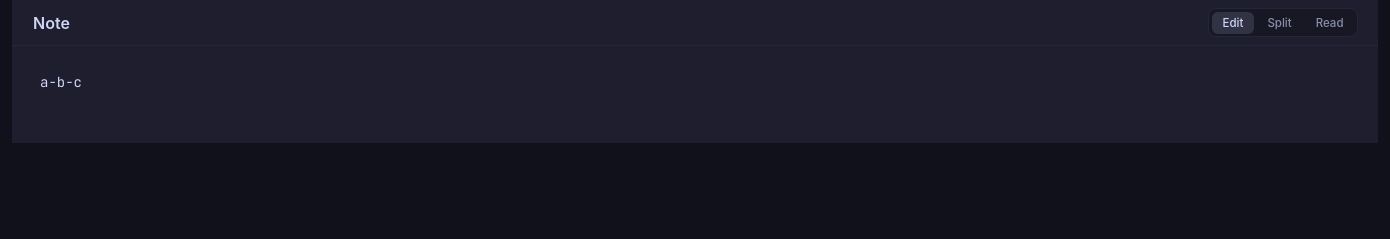
Replace (#547) › deletes the matches when the replacement is empty
Press f
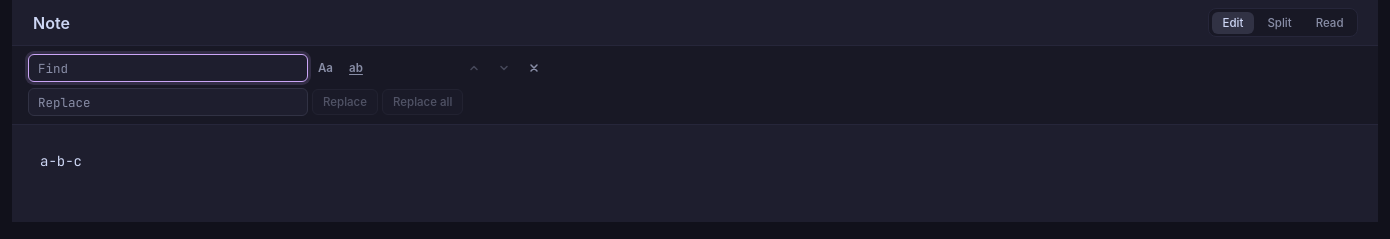
Type "-" into the field labelled "Find". click: (168, 68)
box: [28,54,308,82]
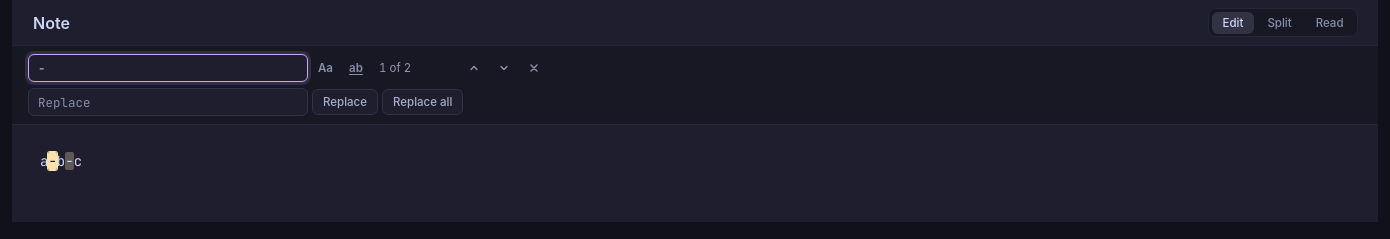
Click the button "Replace all". click: (423, 102)
box: [382,89,463,115]
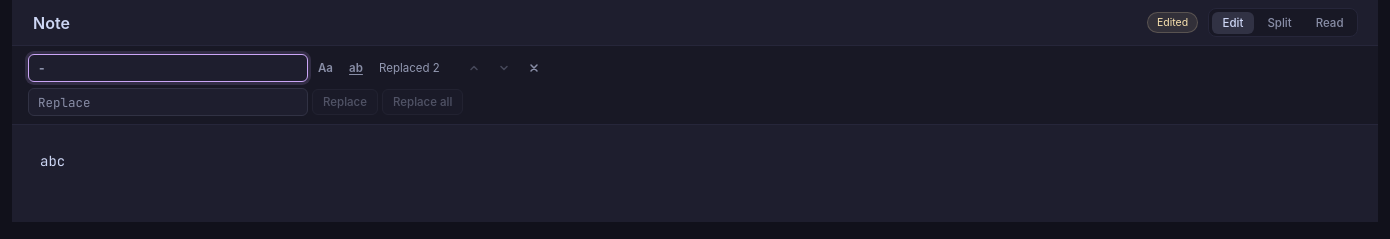
Check: the text box with class "editor-textarea" holds "abc", box [12,125,1378,222]
Replace the text in the field named "Find" with "b". click: (168, 68)
box: [28,54,308,82]
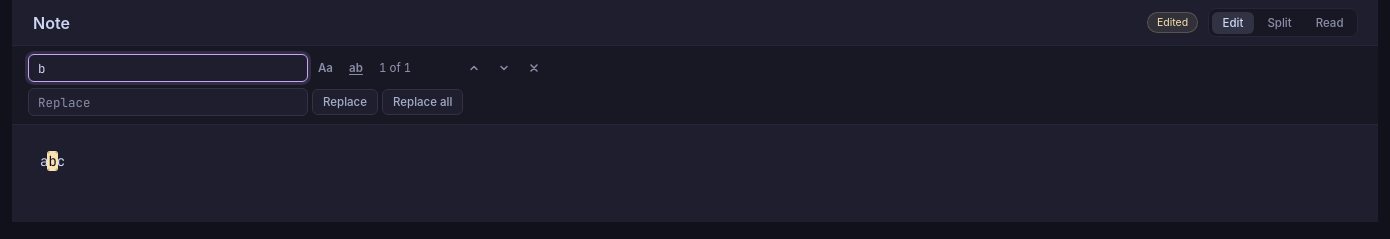
Click the button "Replace". click: (345, 102)
box: [312,89,378,115]
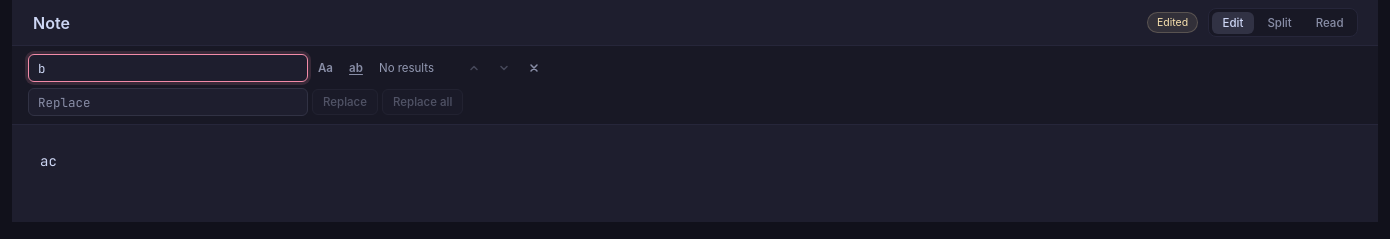
Check: the text box with class "editor-textarea" holds "ac", box [12,125,1378,222]
